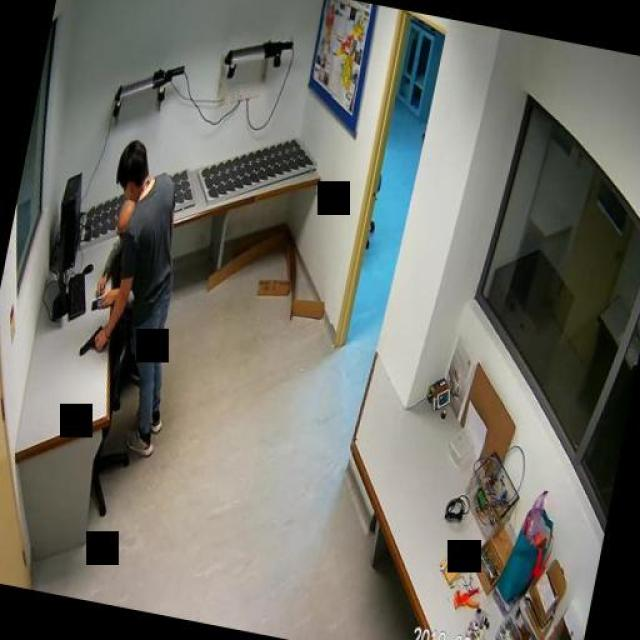gun: (75, 319, 110, 361)
